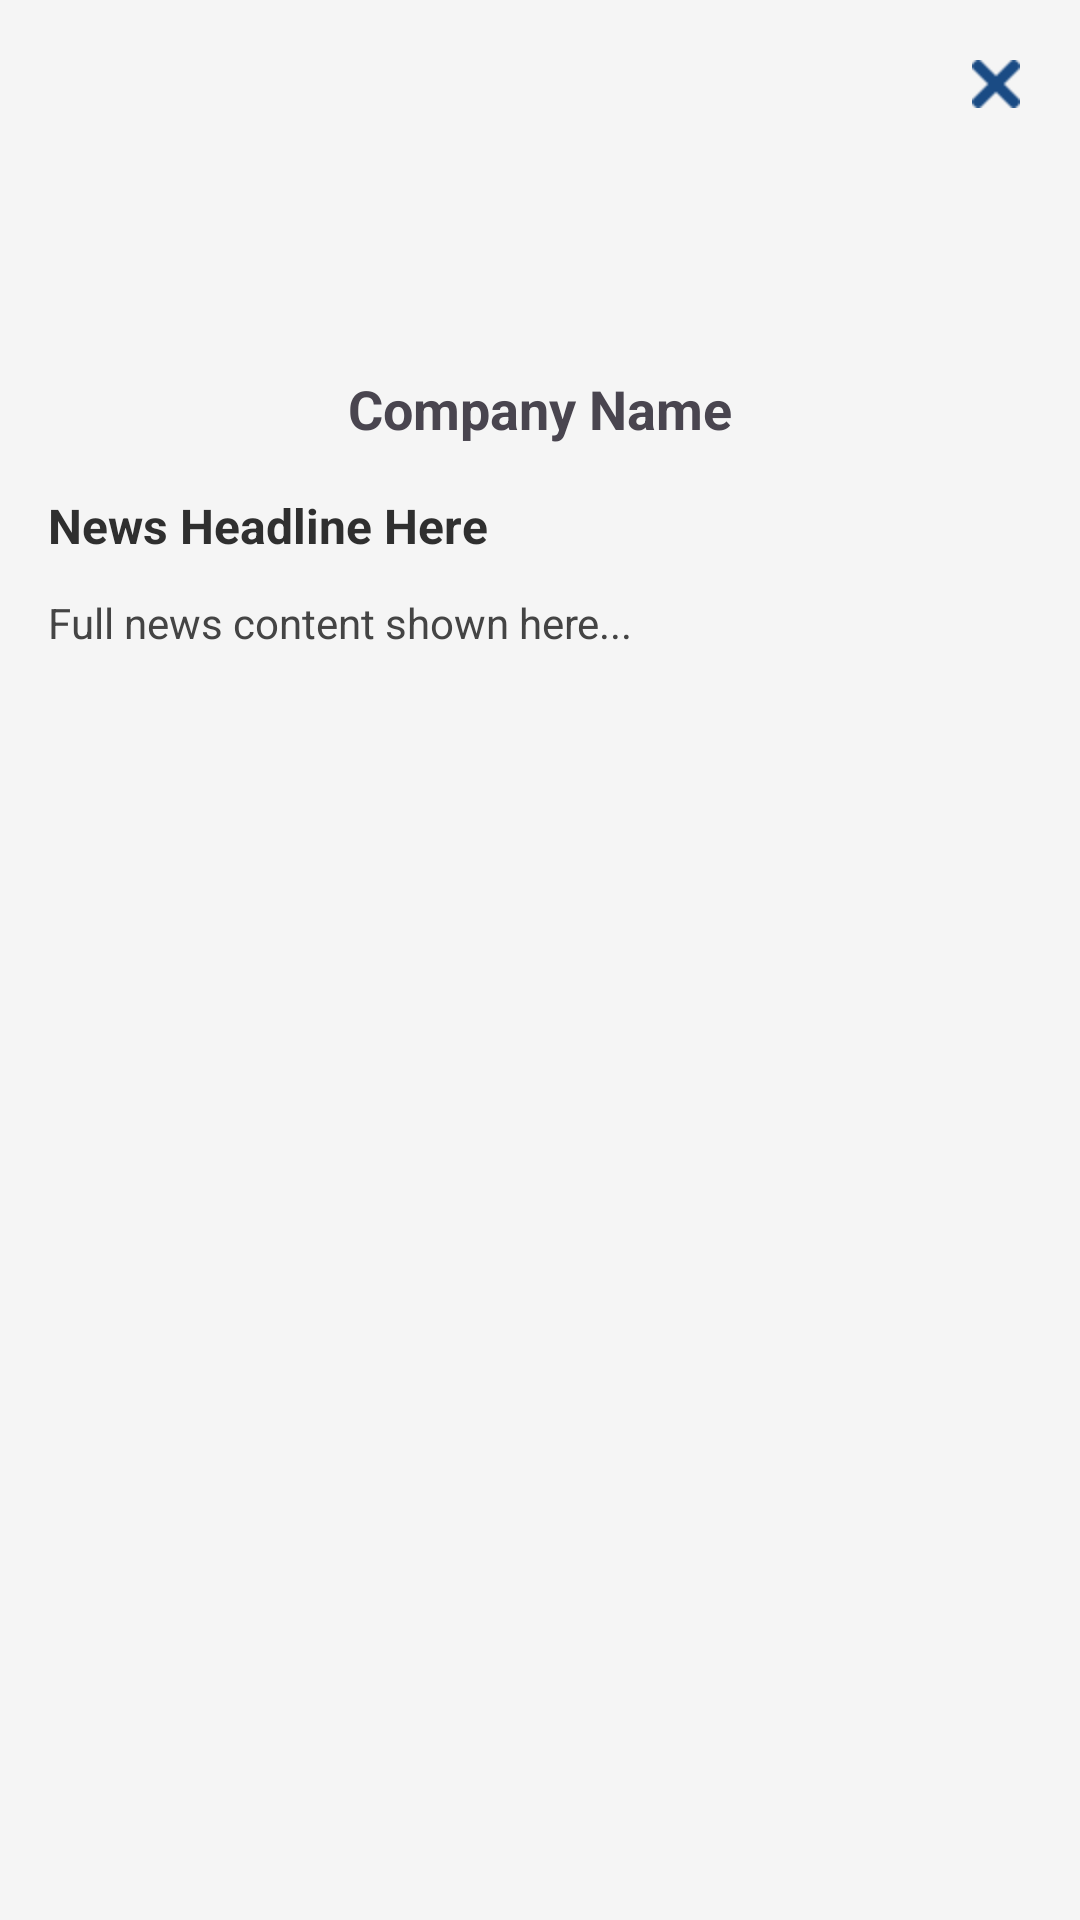

Screen size 1080w x 1920h. Icon name, then its box in pixels as region(x1, y1, x2, y2):
Close: region(972, 60, 1020, 108)
